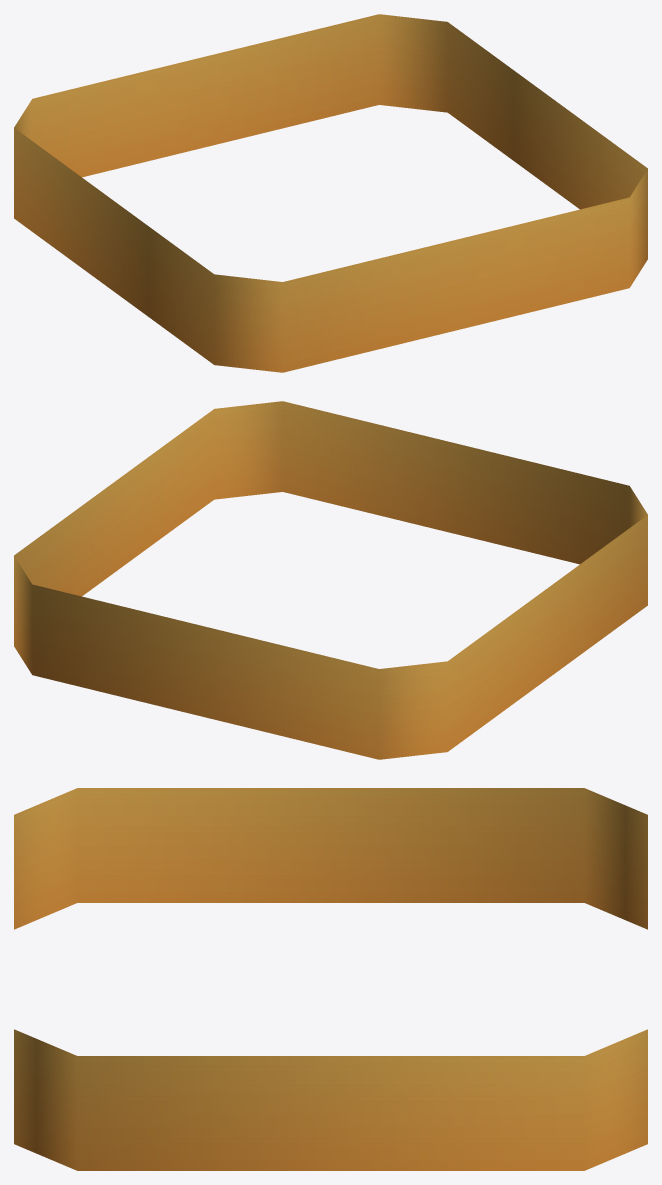
The model's file is selection-b.fbx.
3 renders of one model, top to bottom at view 1: azimuth 30°, elevation 25°; view 2: azimuth 150°, elevation 25°; view 3: azimuth 270°, elevation 25°, orthographic. The views are drawn at different scales.
Parts seen in each view (by area): view 1: selection-b; view 2: selection-b; view 3: selection-b.
Part boxes in pixels (x1,y1,x2,y2): selection-b: (14, 14, 647, 372); selection-b: (14, 401, 647, 759); selection-b: (14, 788, 647, 1170).
Bounding box in the file's own units: 100 × 20 × 100.
